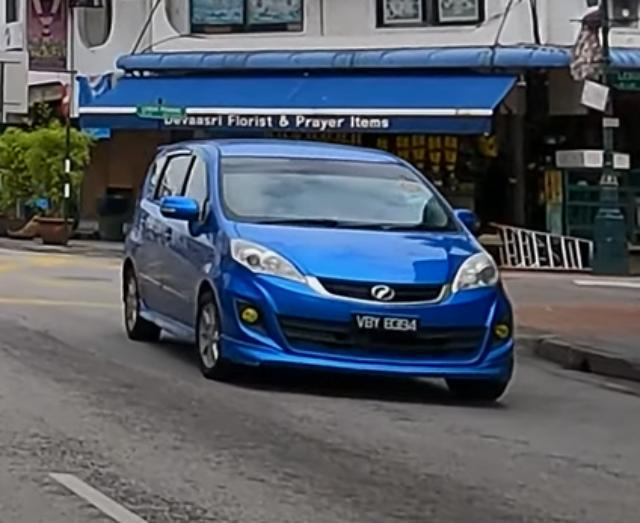License_Plate: (354, 312, 421, 334)
car: (121, 137, 517, 404)
